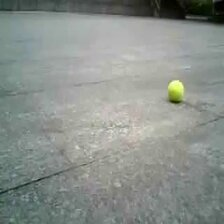tennis: (168, 81, 183, 101)
